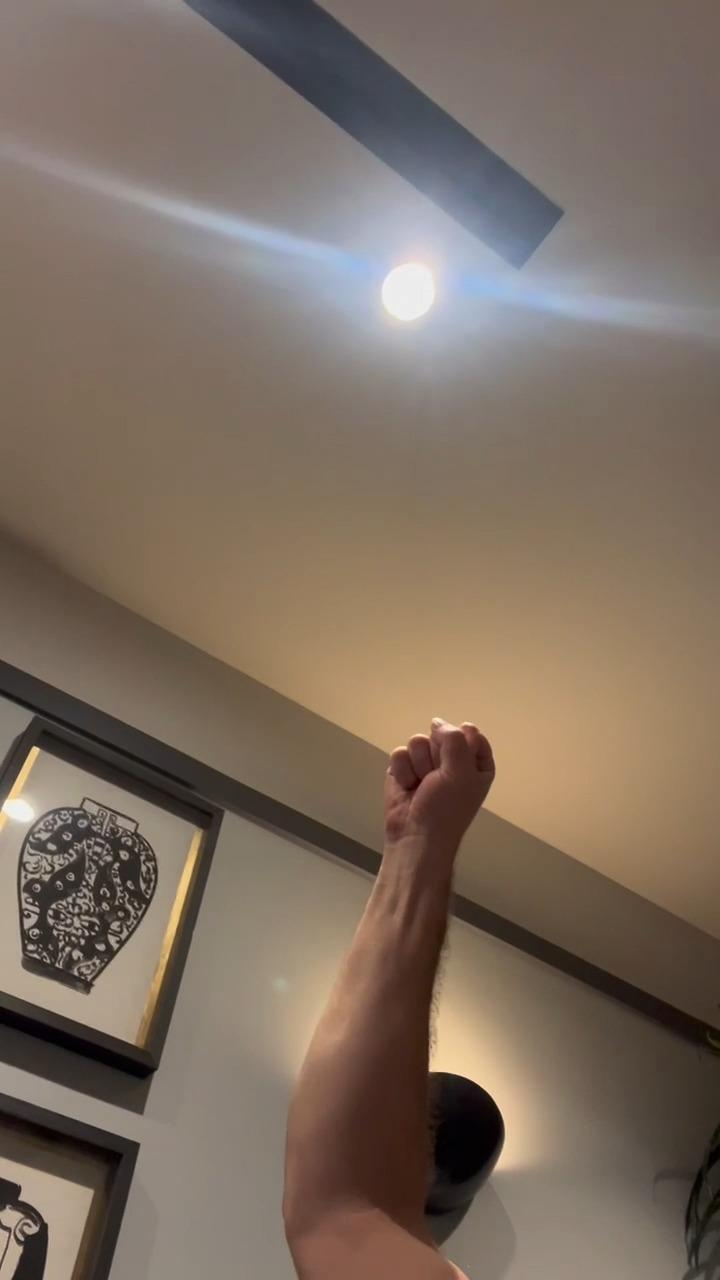Rock: (380, 716, 498, 840)
